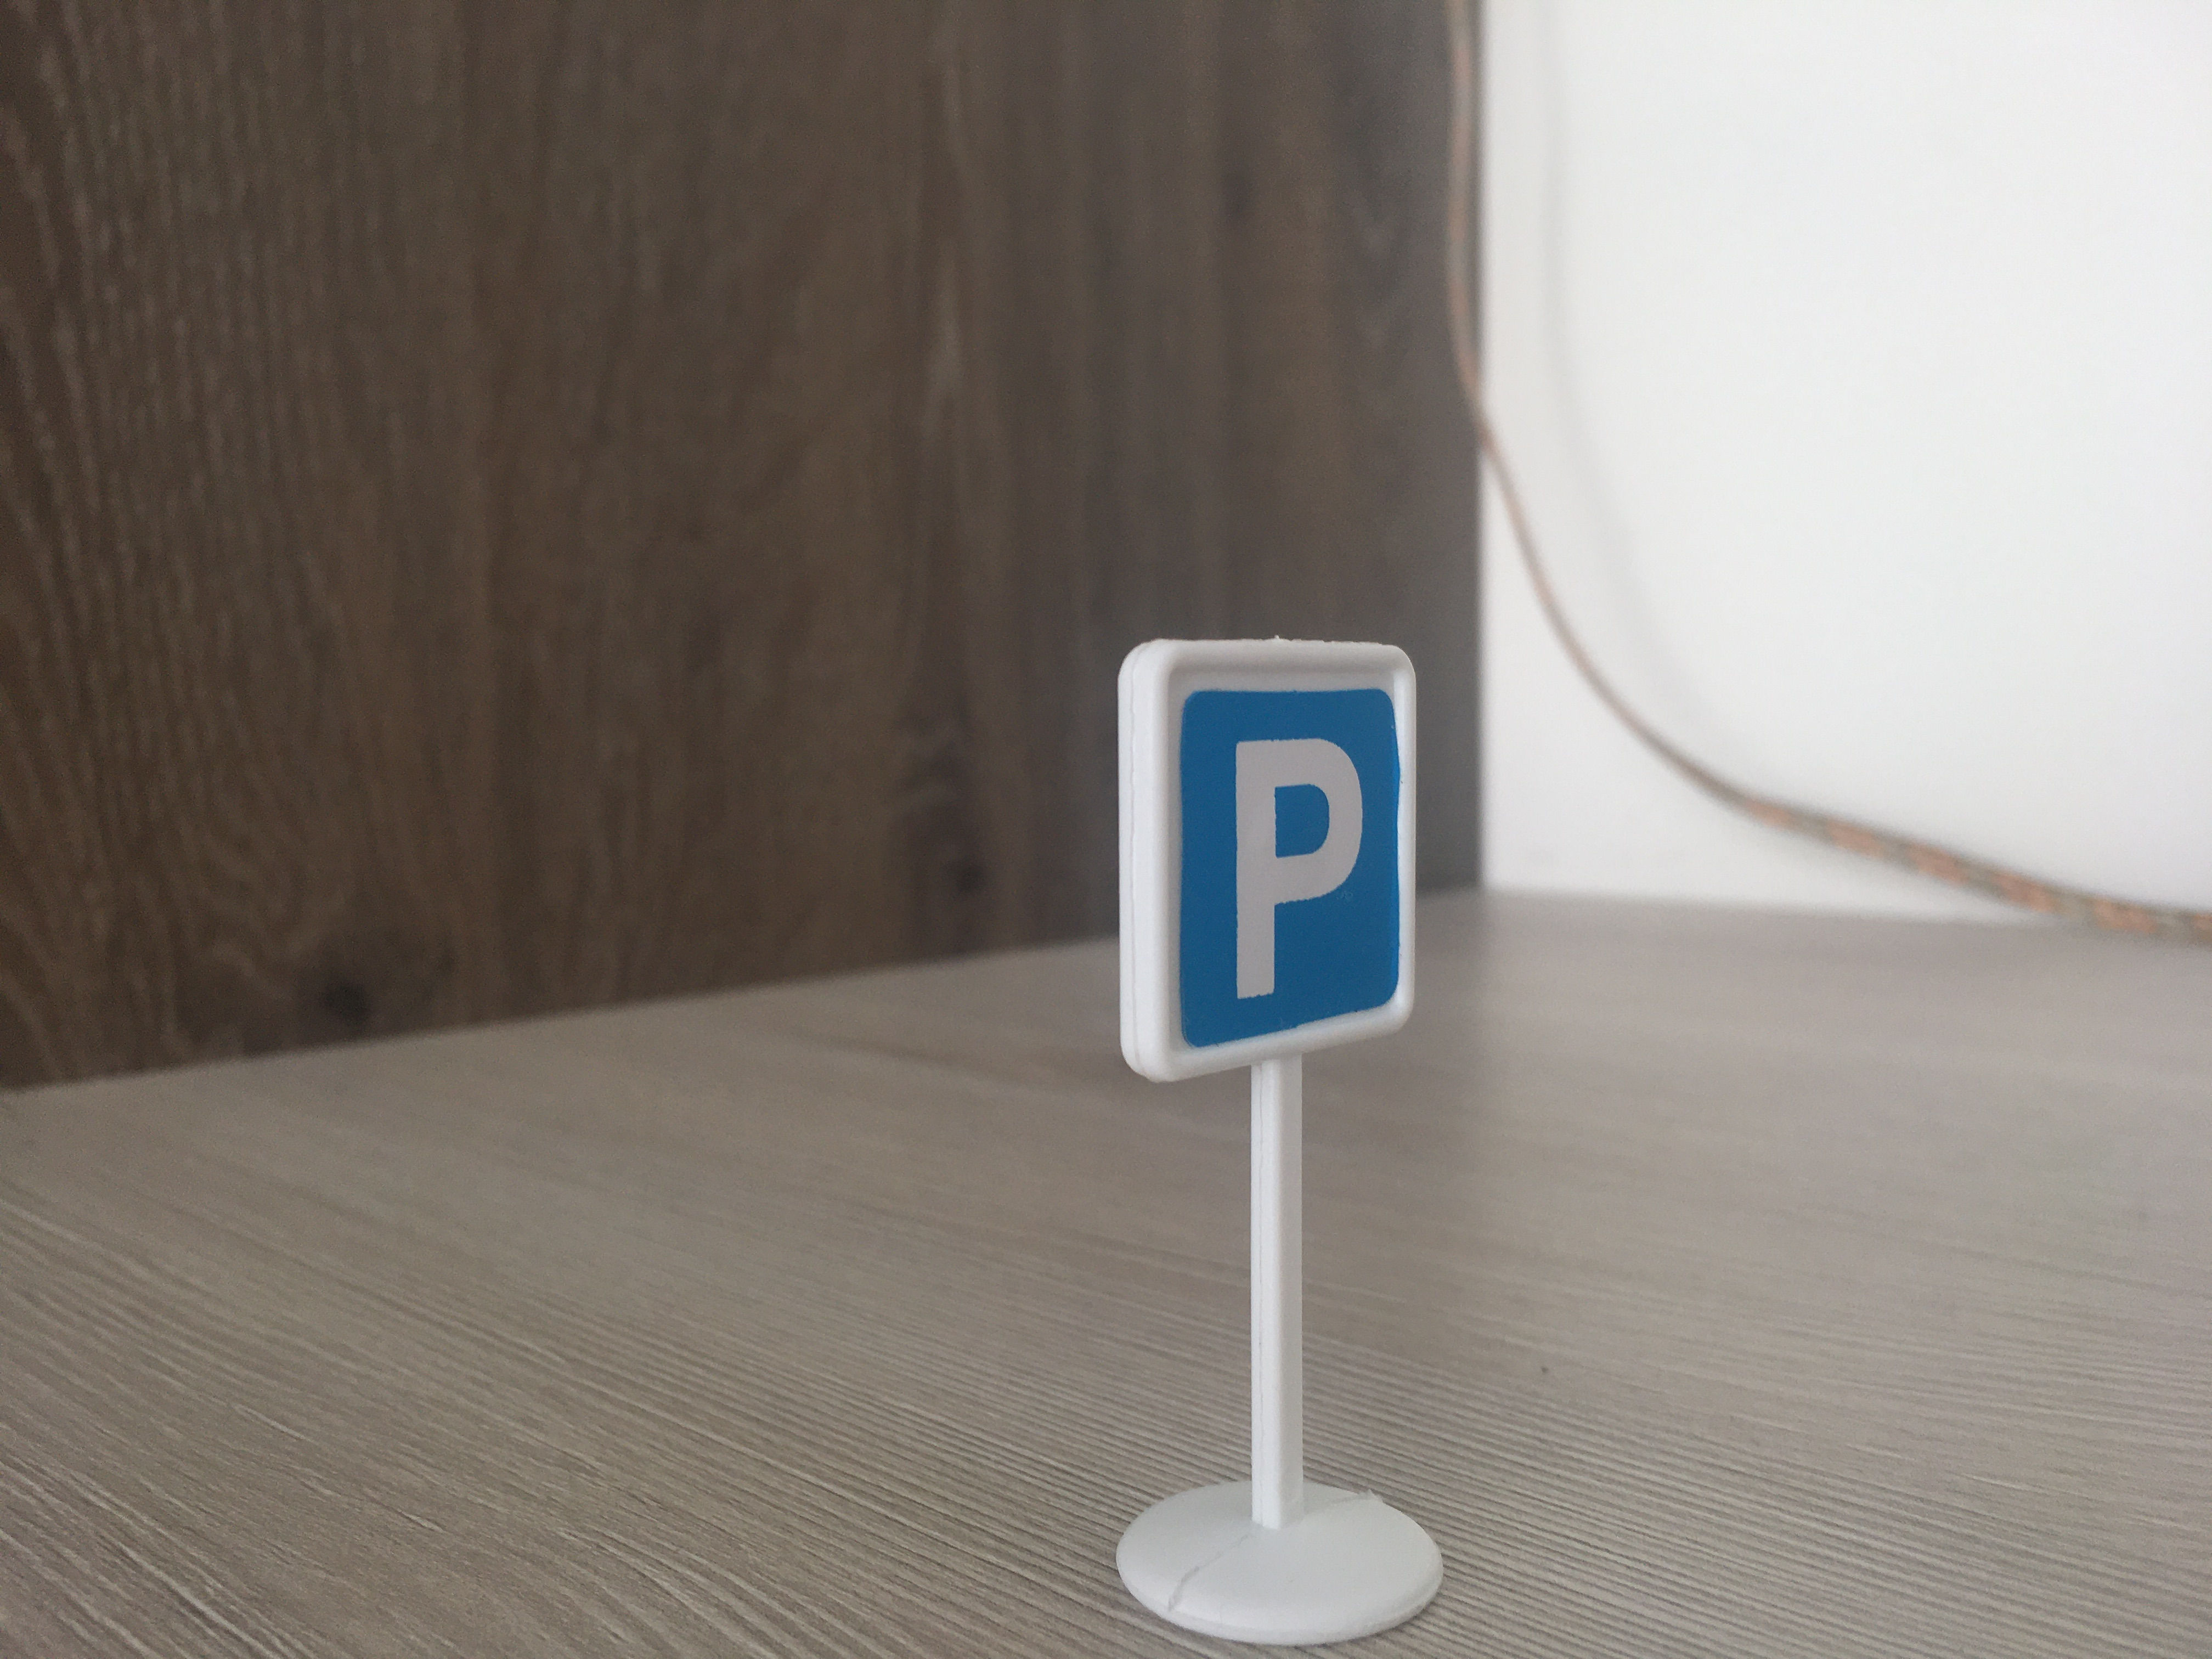parking: (1123, 643, 1423, 1084)
